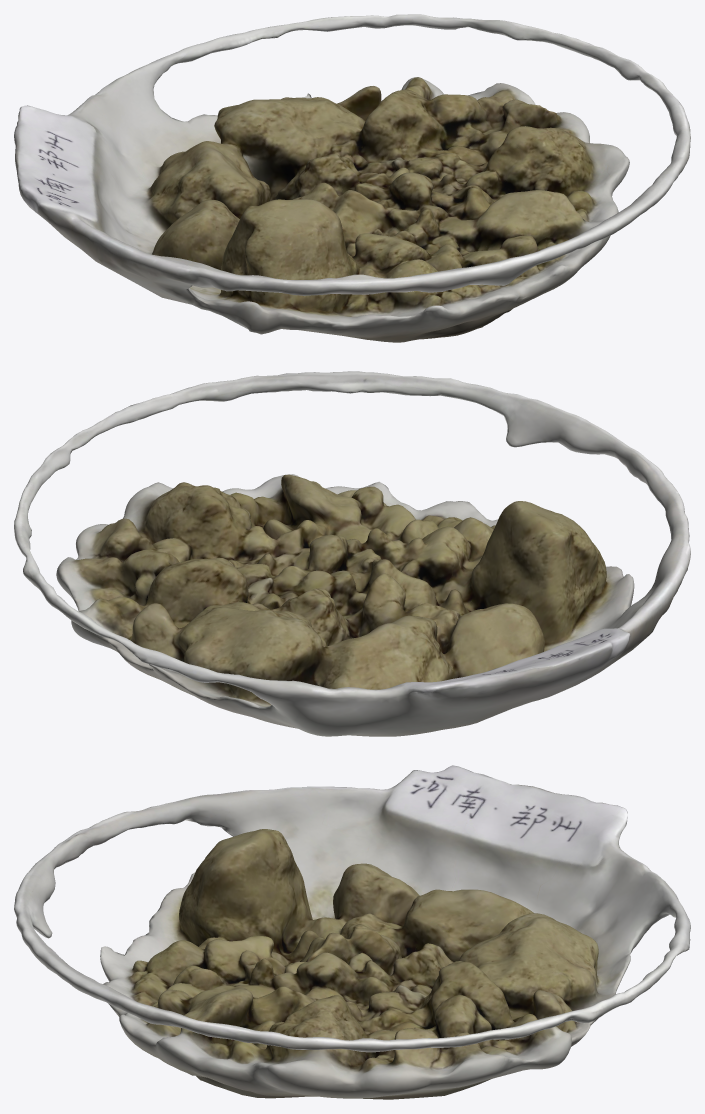
3 views of the same model, one above another, from view 1: azimuth 30°, elevation 25°; view 2: azimuth 150°, elevation 25°; view 3: azimuth 270°, elevation 25° (orthographic). The views are drawn at different scales.
Size of the model in its own units: 0.6302 by 0.1544 by 0.6184.
1 material, 1 textured.
